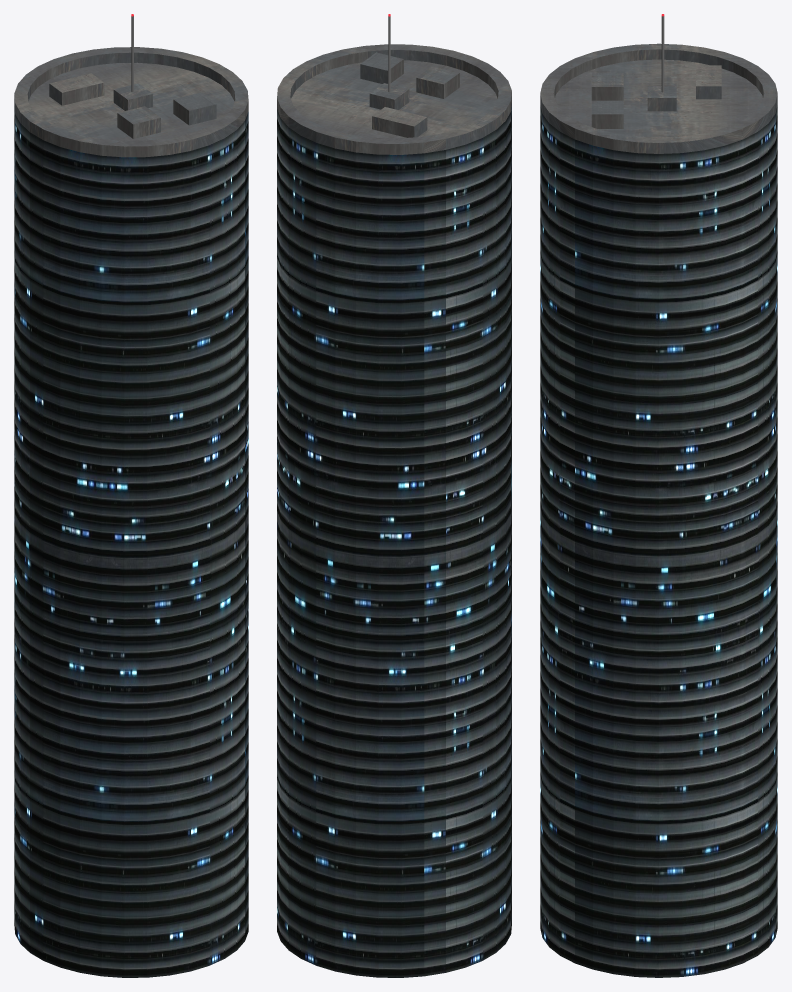
Rendered from 2026-commercial-building-10_old.glb.
The picture shows the model from 3 angles, left to right: view 1: azimuth 30°, elevation 25°; view 2: azimuth 150°, elevation 25°; view 3: azimuth 270°, elevation 25°; orthographic projection.
Visible parts, largest first — view 1: 2026-commercial-building-10; view 2: 2026-commercial-building-10; view 3: 2026-commercial-building-10.
Part boxes in pixels (x1=…): 2026-commercial-building-10: x1=14, y1=14, x2=248, y2=977; 2026-commercial-building-10: x1=277, y1=14, x2=511, y2=977; 2026-commercial-building-10: x1=540, y1=14, x2=777, y2=977.
Bounding box in the file's own units: 46.59 × 200 × 47.08.
4 materials, 2 textured.
